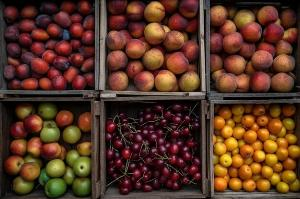apple: (0, 96, 95, 199)
peach: (103, 1, 202, 92), (0, 0, 100, 90), (209, 0, 300, 92)
plum: (212, 100, 300, 198)
